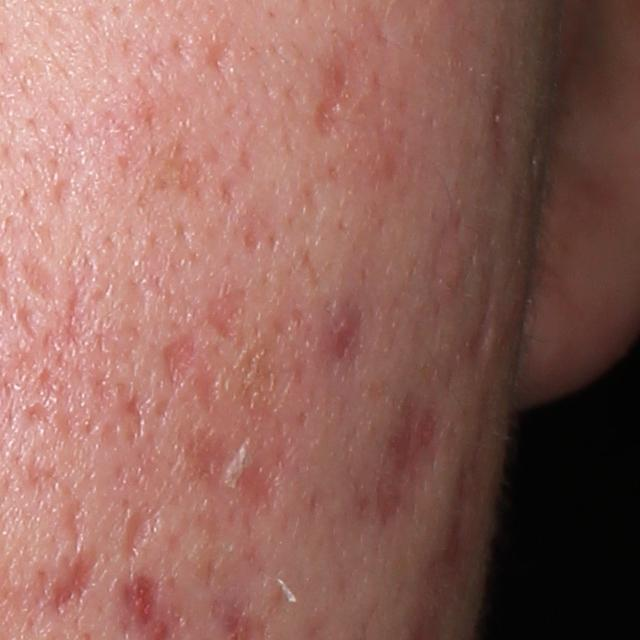atrophic_scar: (370, 393, 443, 522), (185, 427, 283, 516), (314, 35, 385, 148), (47, 544, 105, 624), (157, 335, 214, 412), (204, 284, 247, 350), (19, 246, 62, 311), (61, 488, 90, 561), (120, 499, 154, 560), (126, 388, 148, 442), (207, 37, 232, 73), (241, 219, 262, 252)
